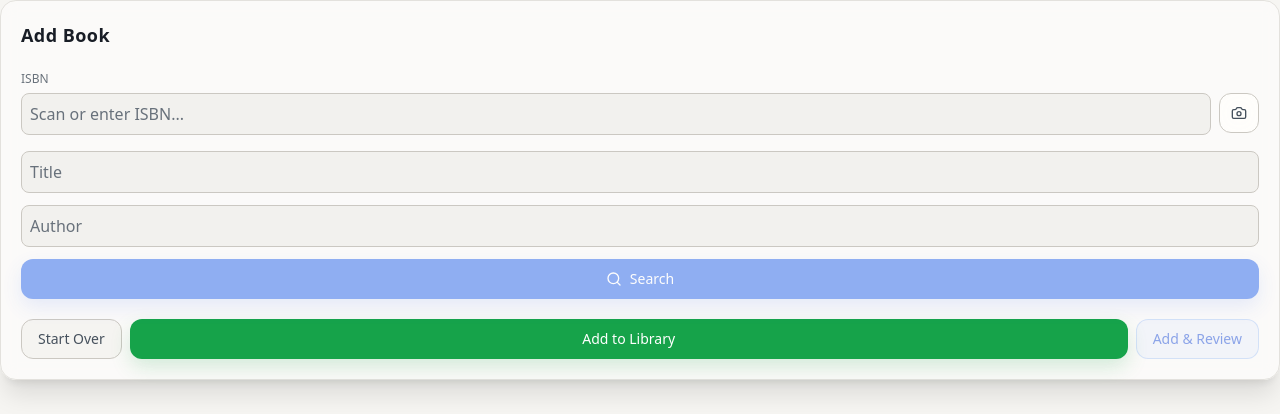
Scenario: has one disabled Search button until ISBN or Title is entered
This screenshot has width=1280, height=414.
Expected: the button "Search" is disabled, [21,259,1259,299]
Type "A title" into the field with placeholder "Title" at (640, 172), box [21,151,1259,193]
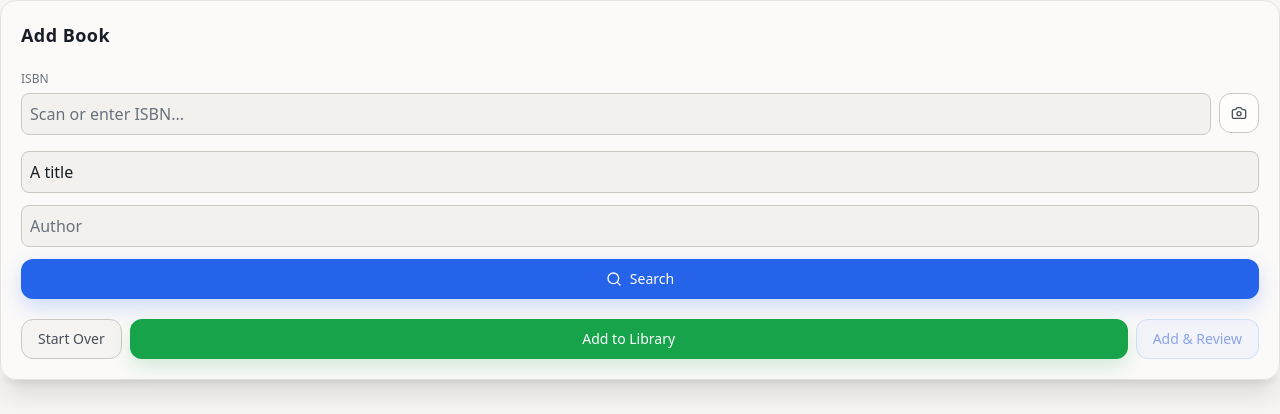
Expected: the button "Search" is enabled, [21,259,1259,299]
